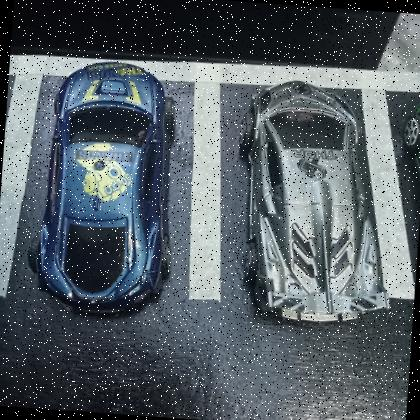Car: (239, 80, 389, 325), (37, 62, 168, 316)
